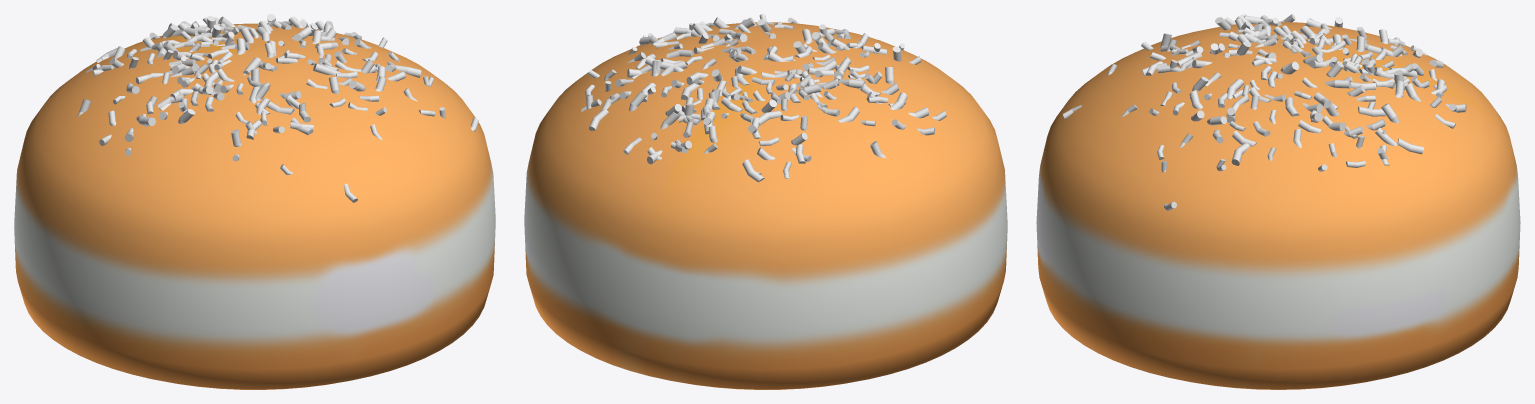
File: roti coklat.fbx
The picture shows the model from 3 angles, left to right: view 1: azimuth 30°, elevation 25°; view 2: azimuth 150°, elevation 25°; view 3: azimuth 270°, elevation 25°; orthographic projection.
Parts seen in each view (by area): view 1: Cylinder, Cylinder.222; view 2: Cylinder, Cylinder.222; view 3: Cylinder, Cylinder.222.
Boxes of the visible parts, <box> form: Cylinder: <box>14,23,495,389</box>; Cylinder.222: <box>77,14,478,202</box>; Cylinder: <box>524,22,1007,389</box>; Cylinder.222: <box>581,14,946,182</box>; Cylinder: <box>1036,22,1520,389</box>; Cylinder.222: <box>1063,14,1466,210</box>.
Bounding box in the file's own units: 234 × 136 × 234.
